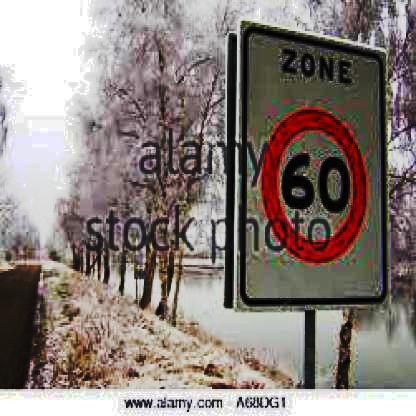Speed Limit -60-: (257, 106, 371, 266)
